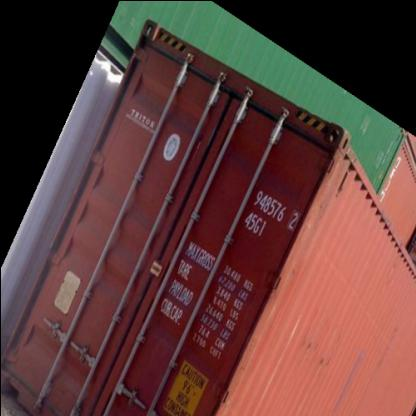Damage: (140, 312, 176, 400), (369, 316, 399, 387), (300, 330, 330, 367)
